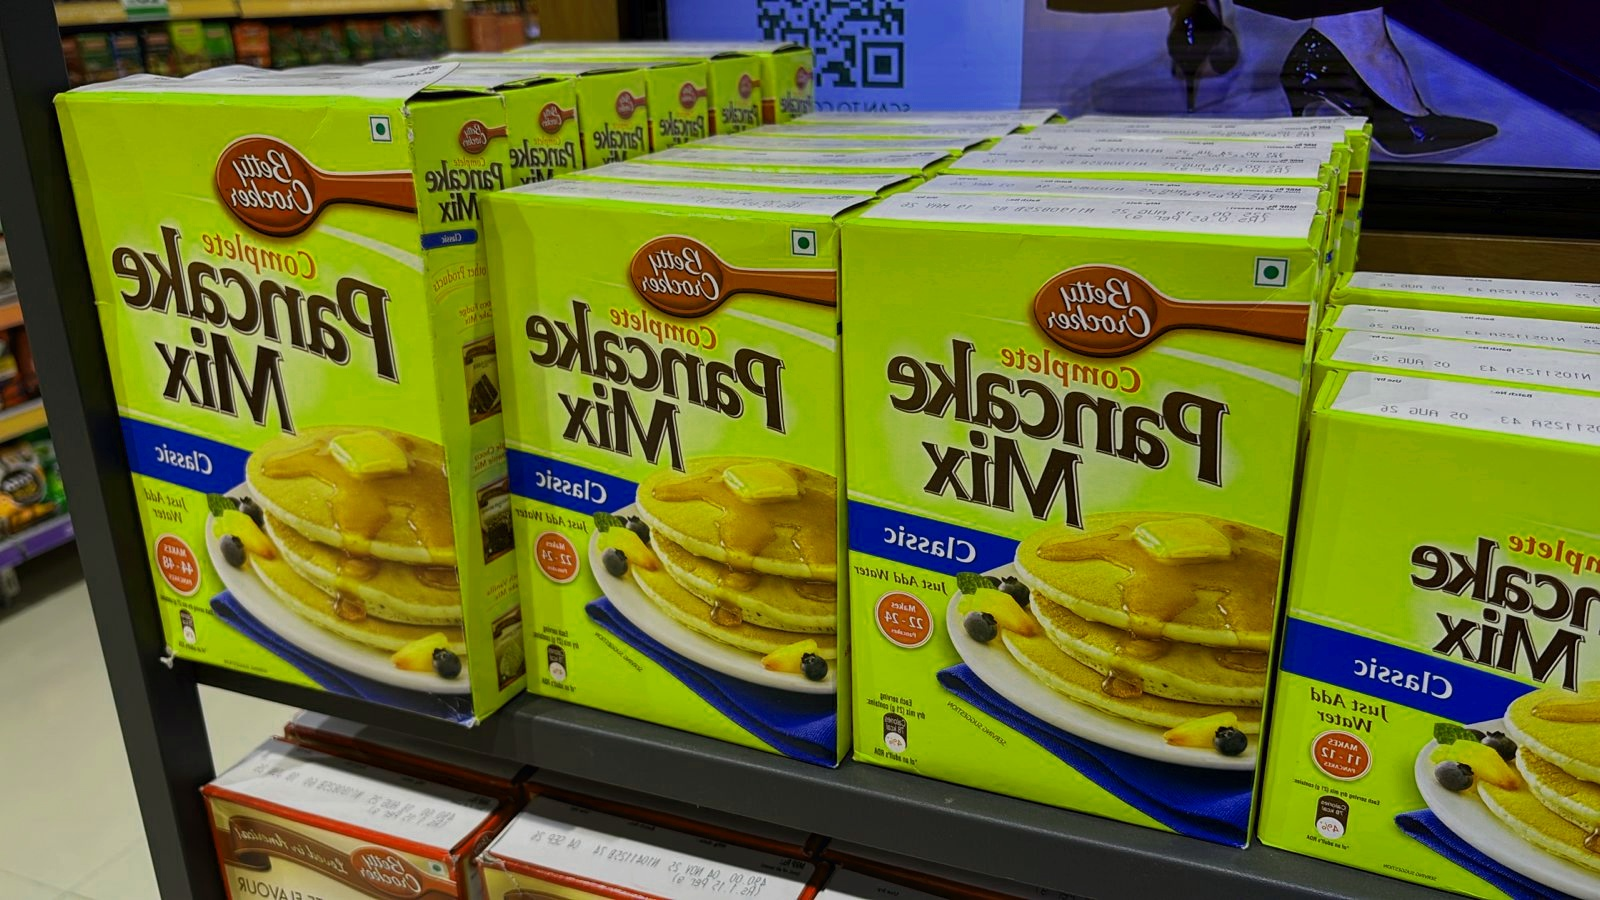Betty Crocker Pancake Mix: (843, 192, 1333, 838), (149, 66, 511, 710), (475, 174, 844, 777), (1259, 367, 1600, 881), (571, 60, 654, 174), (503, 64, 576, 189), (642, 51, 712, 153), (705, 44, 767, 138), (764, 32, 819, 122)
